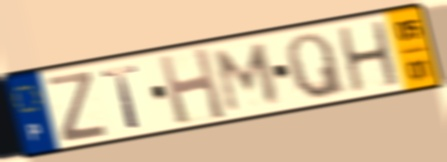H: (155, 44, 229, 127), (334, 18, 403, 96)
M: (213, 40, 283, 116)
Q: (284, 31, 350, 102)
T: (98, 62, 144, 131)
Z: (45, 68, 110, 145)
